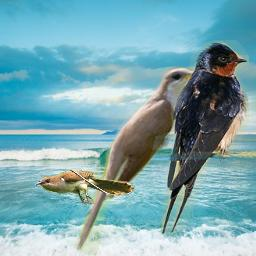Cuckoo: (72, 67, 208, 255), (35, 170, 136, 205)
Swallow: (157, 40, 249, 235)
